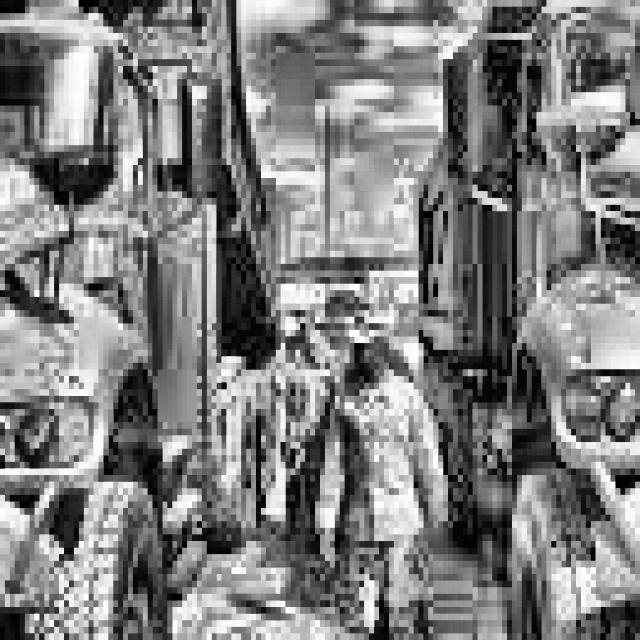dump_truck: (0, 0, 281, 640), (389, 0, 640, 640)
